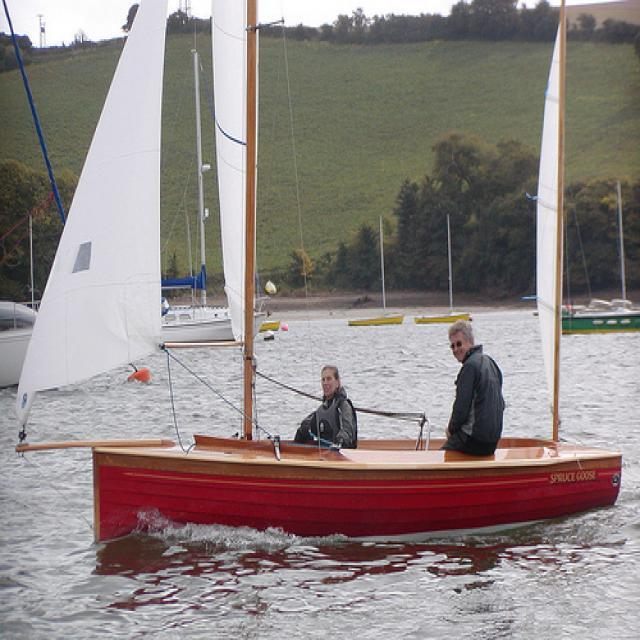Ship: (4, 3, 630, 570)
